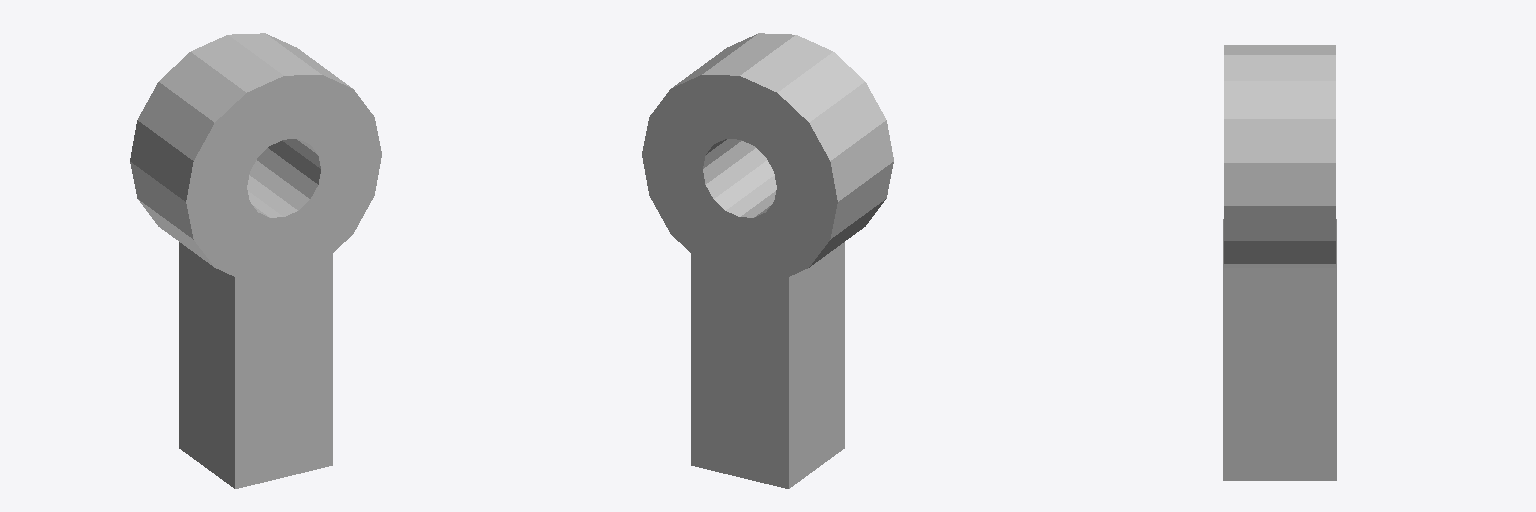
Rendered from receptor-donut.obj.
3 views of the same model, side by side, from view 1: azimuth 30°, elevation 25°; view 2: azimuth 150°, elevation 25°; view 3: azimuth 270°, elevation 25° (orthographic).
Parts seen in each view (by area): view 1: donut2_Circle.005; view 2: donut2_Circle.005; view 3: donut2_Circle.005.
Boxes of the visible parts, x1,y1,x2,y2 form: donut2_Circle.005: [130, 33, 381, 488]; donut2_Circle.005: [642, 33, 893, 488]; donut2_Circle.005: [1223, 45, 1336, 480].
Bounding box in the file's own units: 4 × 7.83 × 2.